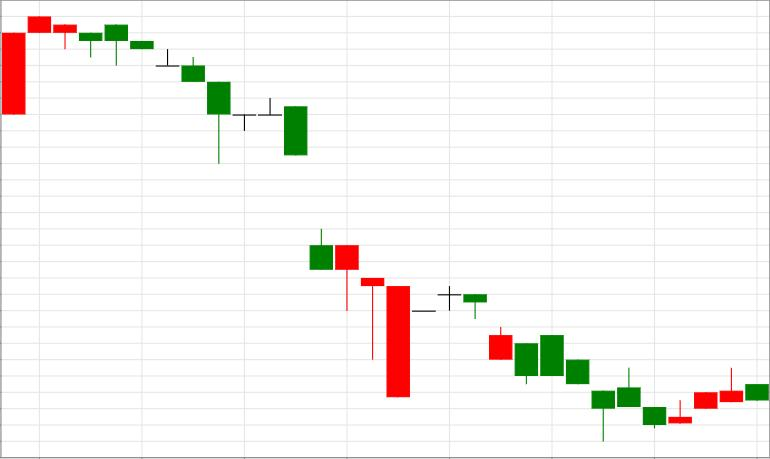hammer_rise: (29, 16, 230, 163)
